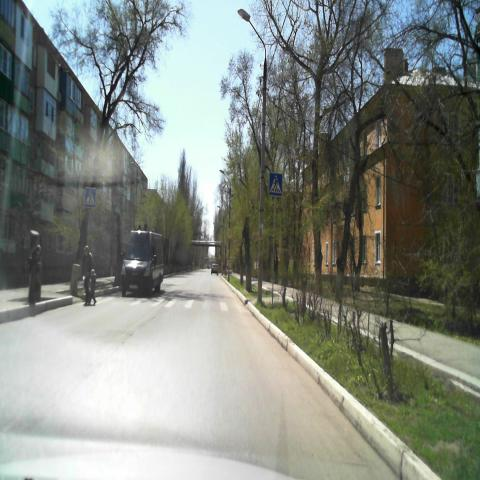2_1: (227, 228, 232, 240)
5_19_1: (270, 173, 282, 196), (85, 186, 96, 208)
